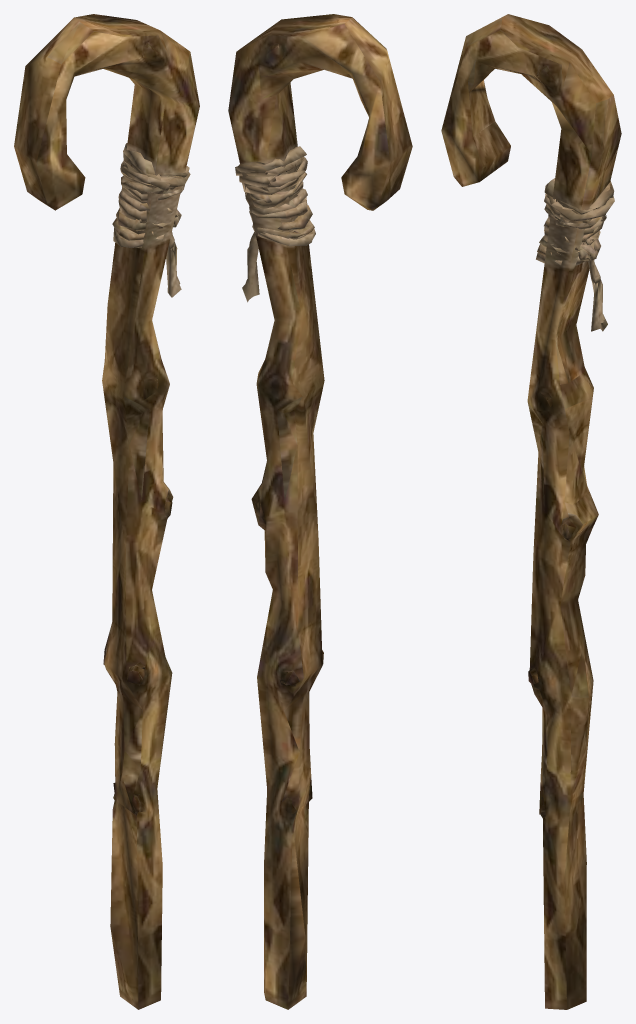
File: jeb-crook.glb
3 views of the same model, side by side, from view 1: azimuth 30°, elevation 25°; view 2: azimuth 150°, elevation 25°; view 3: azimuth 330°, elevation 25° (orthographic). The views are drawn at different scales.
Bounding box in the file's own units: 0.163 × 0.9458 × 0.0625.
Materials: 1 (1 with a texture image).
